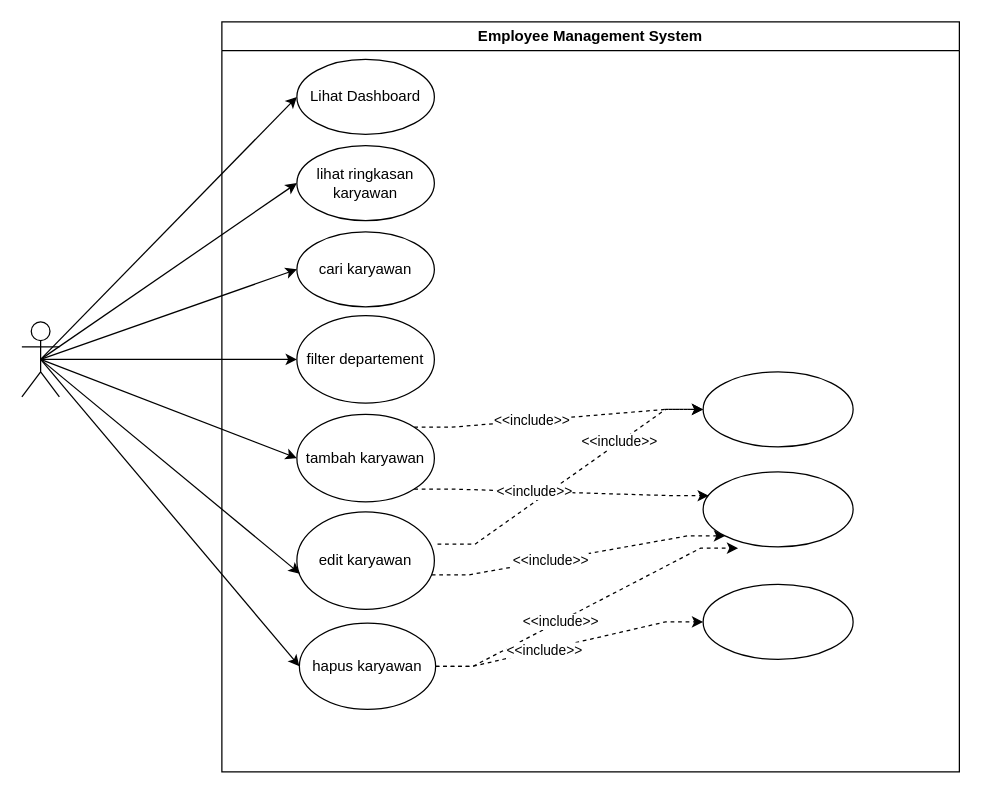
Image size: 981x794. Some labels were removed from this diagram. The shapes that lost their labels are listed below. From the top down, each one's centre as x and y in pixels, then its label:
At point (40, 359): "Actor".
At point (777, 409): "tutup / buka modal".
At point (777, 509): "validasi form".
At point (777, 621): "Konfirmasi Hapus".
